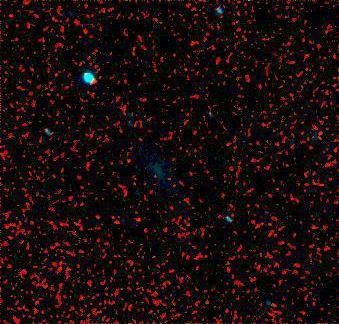star: (125, 205, 155, 235)
